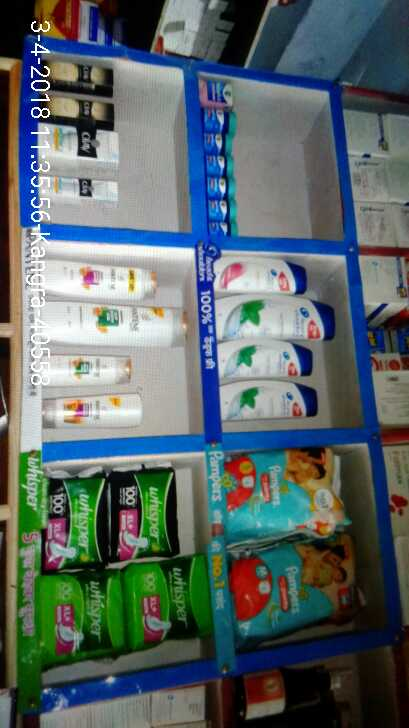vicks: (200, 72, 240, 237)
